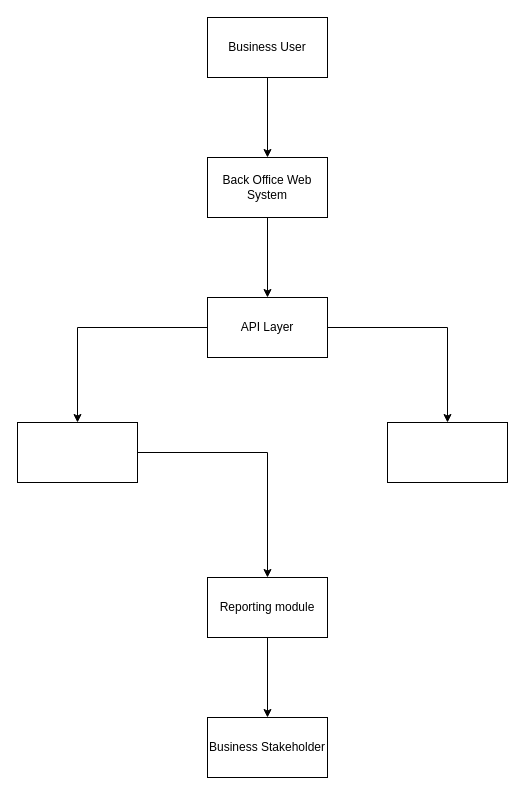
The diagram is 525 pixels wide and 795 high, and some of its shapes have lost their labels. Here are the shapes that lost their labels. From the top down, the box of each, then its label:
(16, 422, 138, 482): Database
(386, 422, 508, 482): Audit Log
